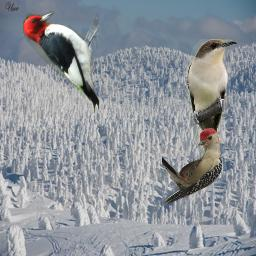Cuckoo: (187, 39, 238, 159)
Woodpecker: (23, 11, 99, 113), (162, 128, 222, 208)
